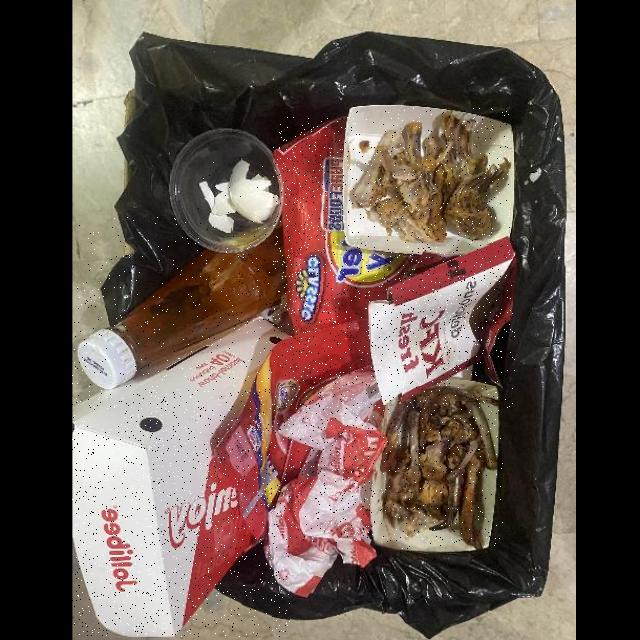biowaste: (354, 108, 510, 245), (381, 386, 503, 549), (197, 159, 280, 233)
glass: (76, 217, 289, 388)
paper: (72, 314, 290, 636), (371, 237, 515, 407)
wrapper: (274, 117, 456, 337), (212, 315, 375, 543)
